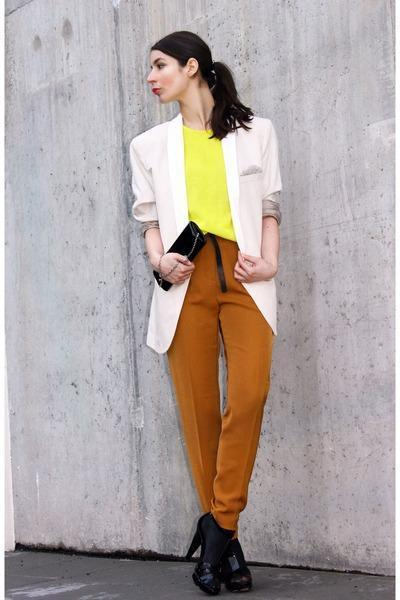bag: (153, 221, 205, 290)
jacket: (130, 113, 293, 353)
pants: (167, 233, 273, 538)
shirt: (183, 126, 235, 240)
shoe: (180, 512, 273, 594)
